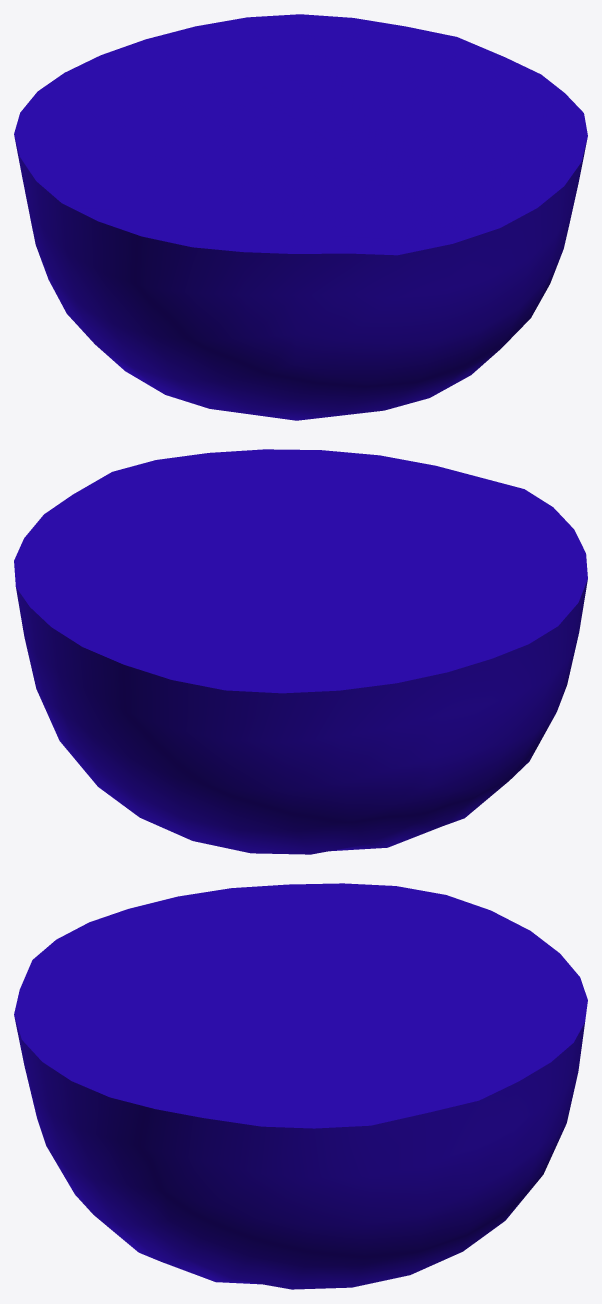
The model's file is tea.fbx.
3 views of the same model, one above another, from view 1: azimuth 30°, elevation 25°; view 2: azimuth 150°, elevation 25°; view 3: azimuth 270°, elevation 25° (orthographic).
Parts seen in each view (by area): view 1: polySurface8; view 2: polySurface8; view 3: polySurface8.
Part boxes in pixels (<box>): polySurface8: <box>14,14,587,420</box>; polySurface8: <box>14,449,587,854</box>; polySurface8: <box>14,883,587,1289</box>.
Bounding box in the file's own units: 19.17 × 8.35 × 19.12.
